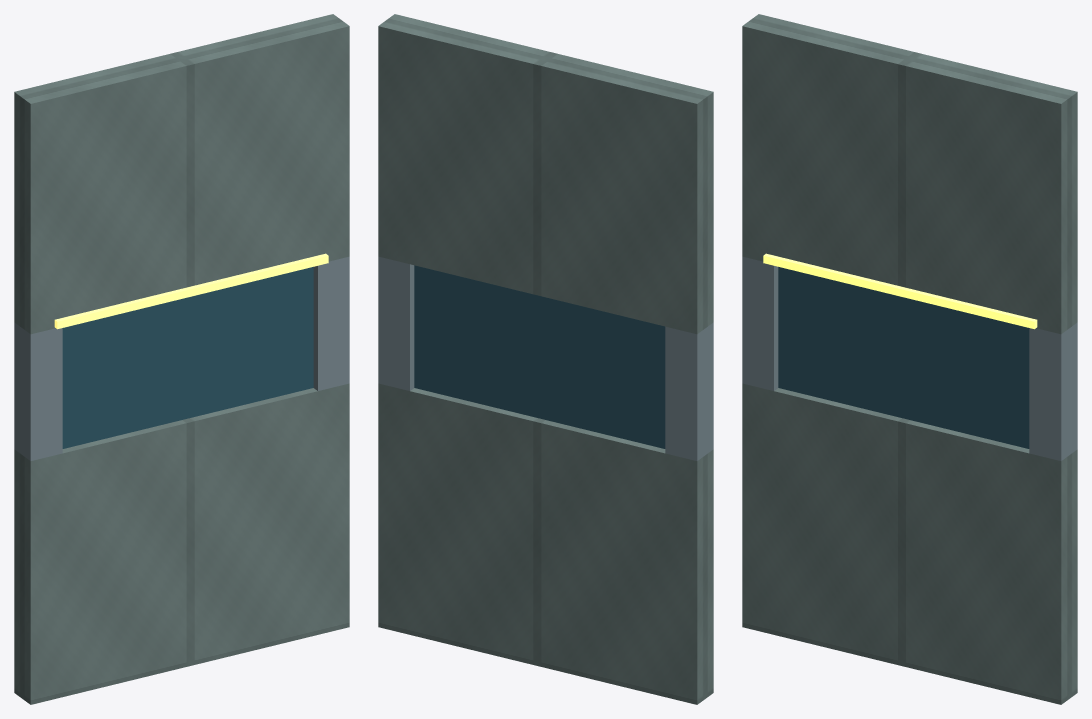
File: Hab_Wall_Window_2m.glb
3 renders of one model, left to right at view 1: azimuth 30°, elevation 25°; view 2: azimuth 150°, elevation 25°; view 3: azimuth 330°, elevation 25°, orthographic.
Visible parts, largest first — view 1: Hab_Wall_Window_2m; view 2: Hab_Wall_Window_2m; view 3: Hab_Wall_Window_2m.
Part boxes in pixels (<box>): Hab_Wall_Window_2m: <box>14,14,349,704</box>; Hab_Wall_Window_2m: <box>378,14,713,704</box>; Hab_Wall_Window_2m: <box>742,14,1077,704</box>.
Bounding box in the file's own units: 2 × 3.6 × 0.21.
4 materials, 1 textured.
